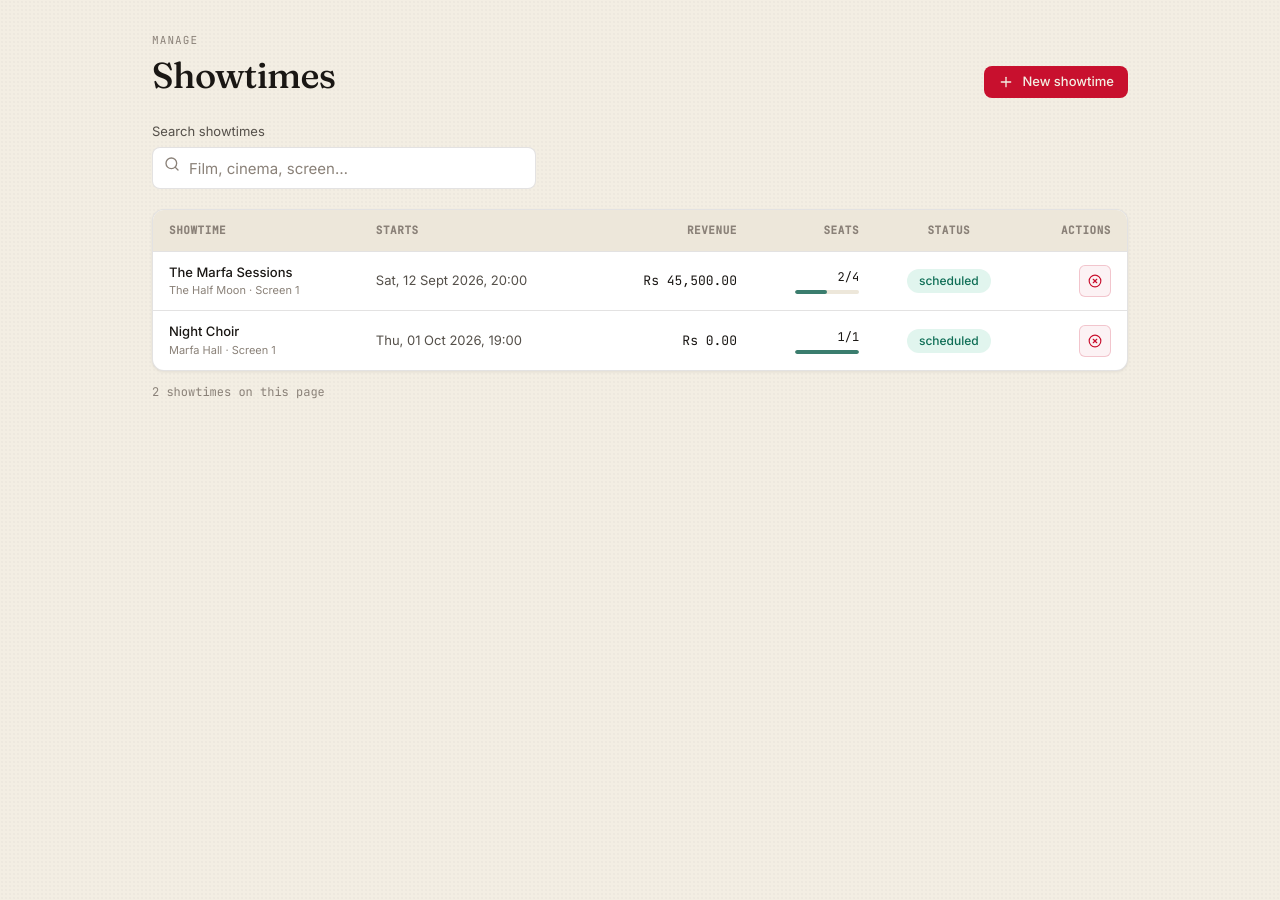
Test case: AdminShowtimesPage › opens and dismisses the cancel confirmation modal
Expected: the text "The Marfa Sessions" is shown, [169,264,292,280]
Click the button titled "Cancel showtime" in the row of "The Marfa Sessions" at [1095, 281], box [1079,265,1111,297]
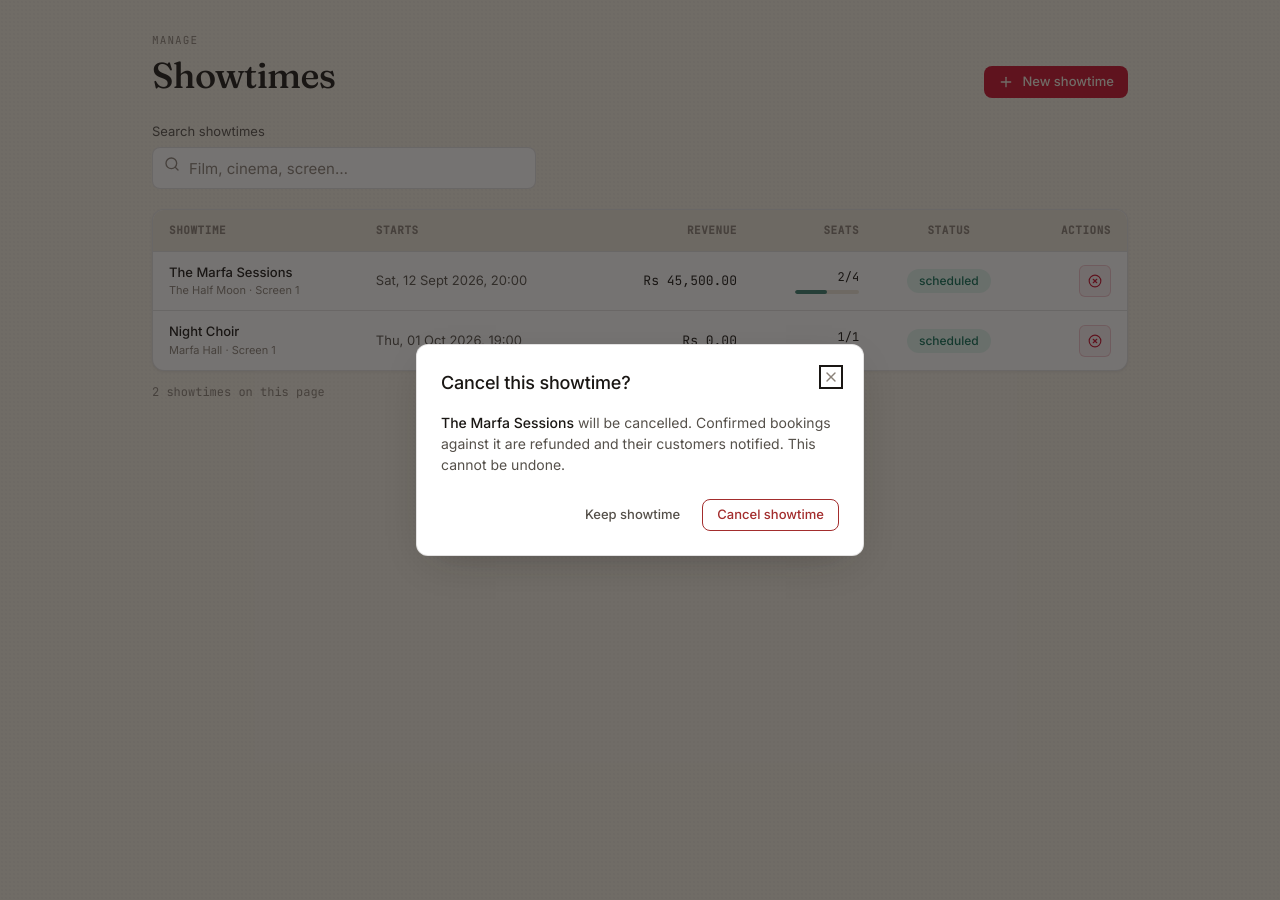
Result: the dialog is shown at [416,344,864,556]
Click the button "Keep showtime" at [633, 515], box [571,499,694,531]
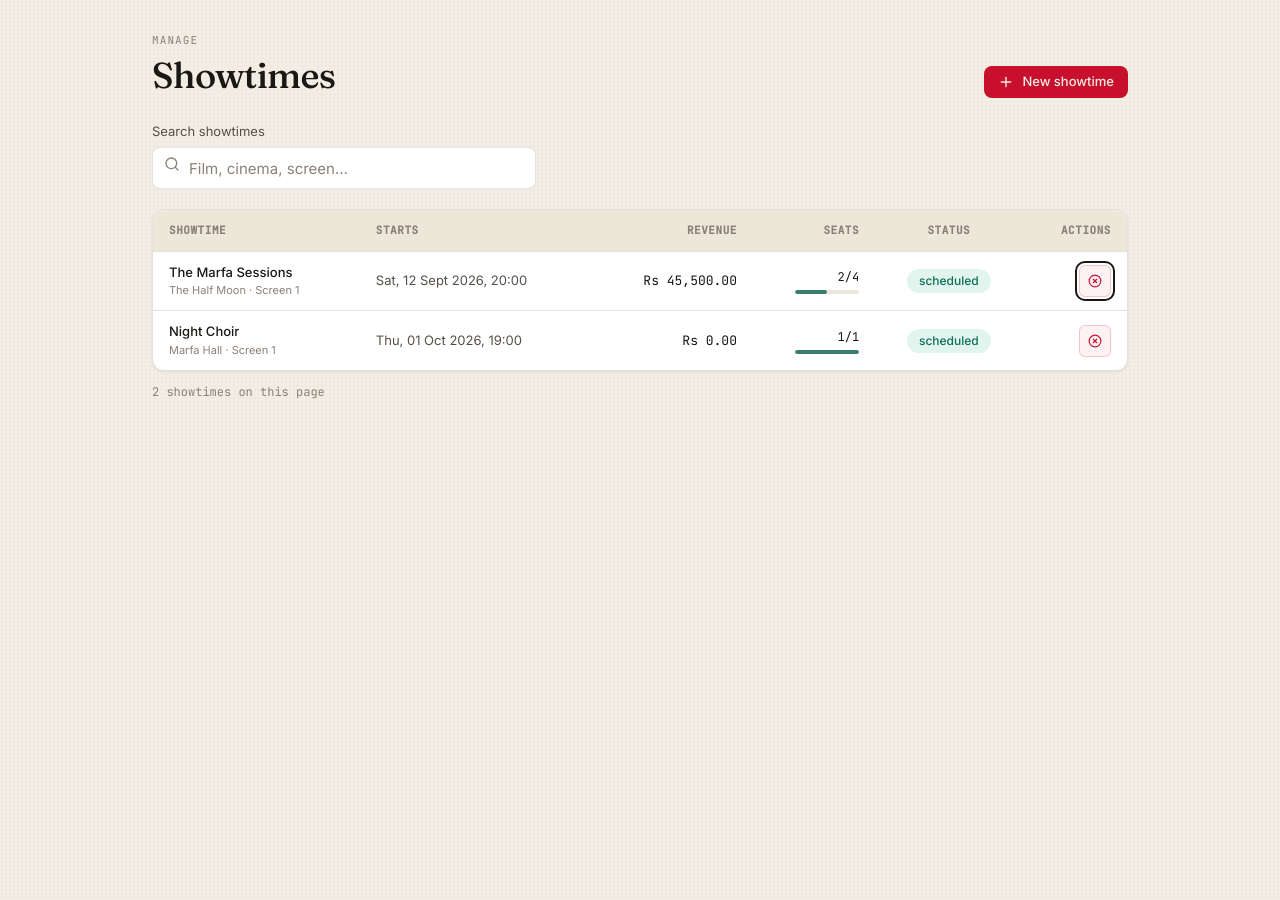
Result: the dialog is gone
